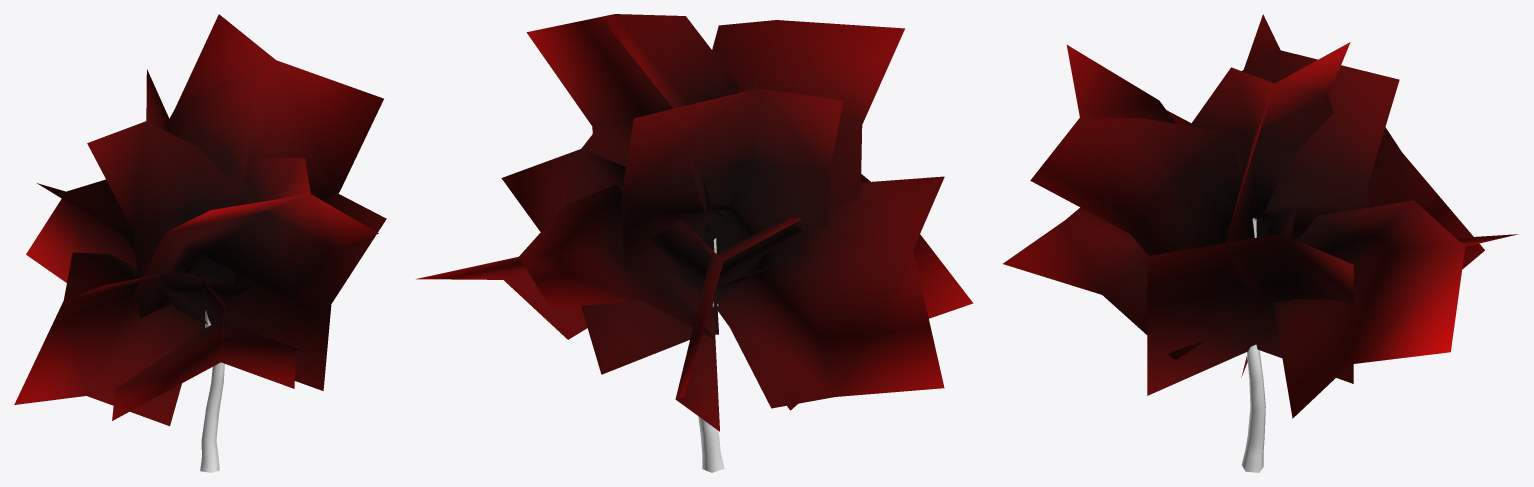
Rendered from baum ld0(enhanced) mod.fbx.
3 views of the same model, side by side, from view 1: azimuth 30°, elevation 25°; view 2: azimuth 150°, elevation 25°; view 3: azimuth 270°, elevation 25° (orthographic). The views are drawn at different scales.
Visible parts, largest first — view 1: baum_ld0_enhanced_; view 2: baum_ld0_enhanced_; view 3: baum_ld0_enhanced_.
Boxes of the visible parts, x1,y1,x2,y2 form: baum_ld0_enhanced_: (14,14,386,472); baum_ld0_enhanced_: (416,14,973,472); baum_ld0_enhanced_: (1003,14,1517,472).
Bounding box in the file's own units: 1373 × 1463 × 1503.
